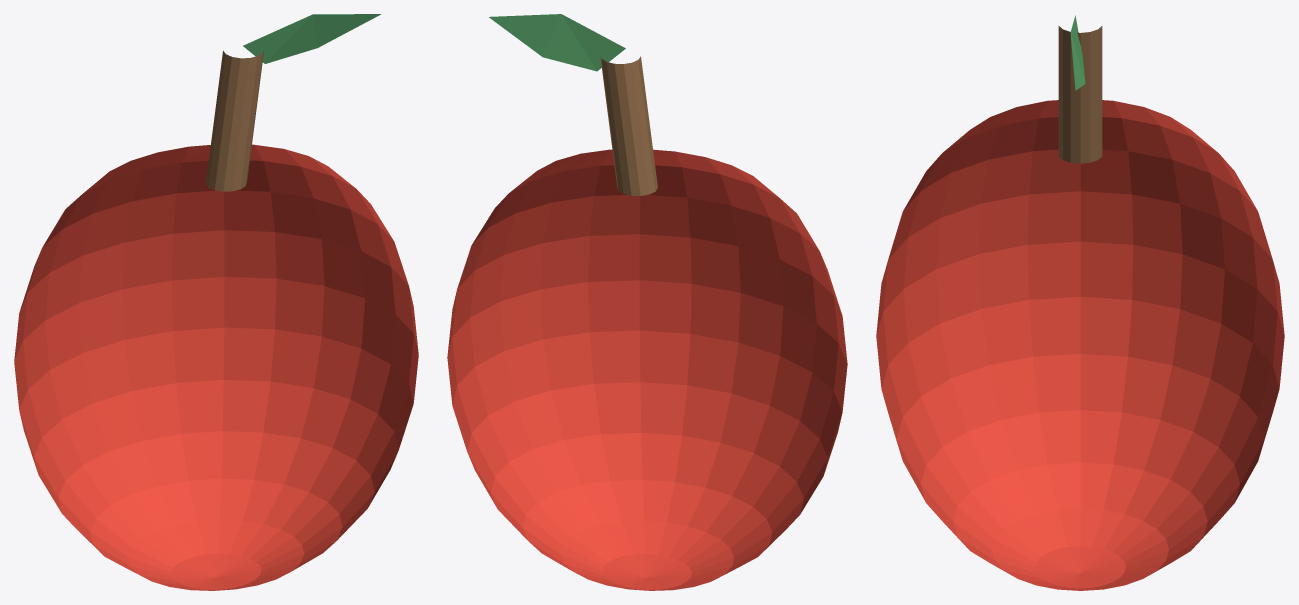
The model's file is demo-apple.gltf.
3 views of the same model, side by side, from view 1: azimuth 30°, elevation 25°; view 2: azimuth 150°, elevation 25°; view 3: azimuth 270°, elevation 25° (orthographic). The views are drawn at different scales.
Visible parts, largest first — view 1: Demo Apple; view 2: Demo Apple; view 3: Demo Apple.
Part boxes in pixels (<box>): Demo Apple: <box>14,14,418,590</box>; Demo Apple: <box>447,14,847,590</box>; Demo Apple: <box>876,15,1284,590</box>.
Size of the model in its own units: 1.8 by 2.61 by 1.64.
